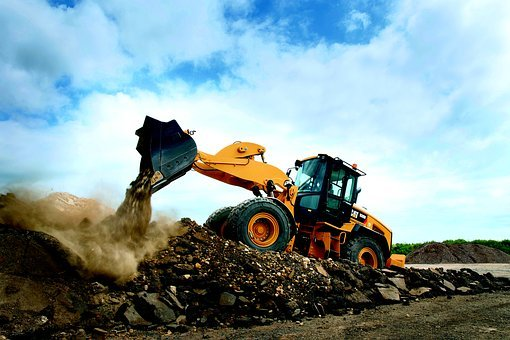bulldozer: (122, 115, 409, 277)
